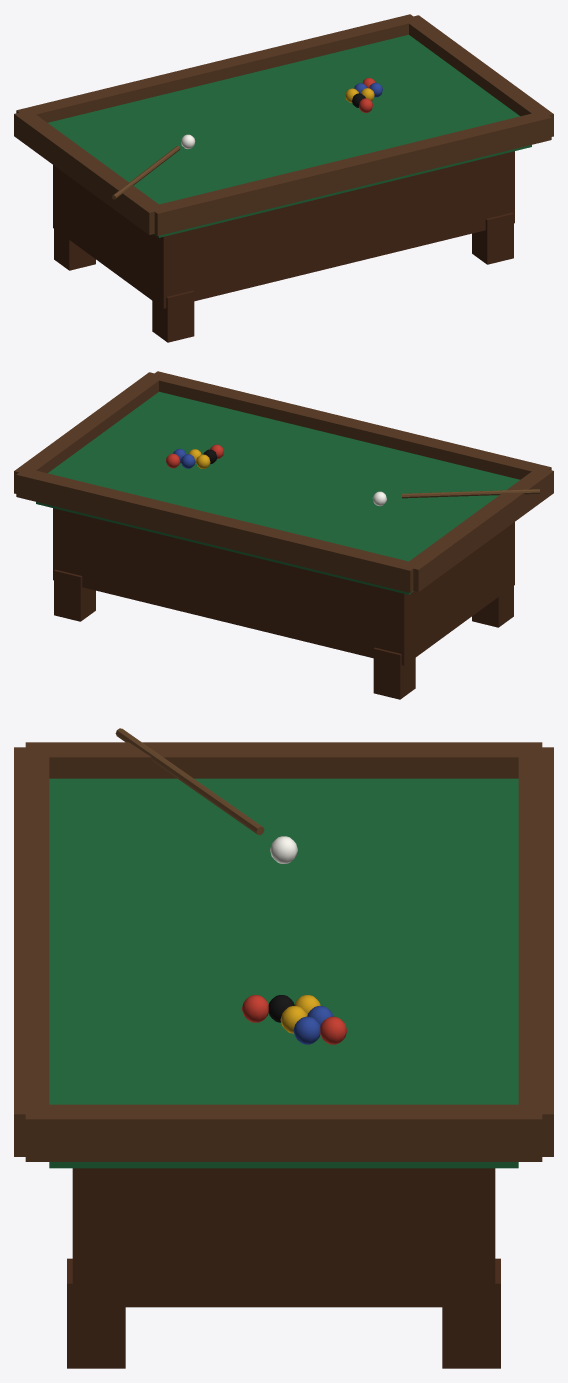
File: pool-table.glb
The picture shows the model from 3 angles, top to bottom: view 1: azimuth 30°, elevation 25°; view 2: azimuth 150°, elevation 25°; view 3: azimuth 270°, elevation 25°; orthographic projection. The views are drawn at different scales.
Visible parts, largest first — view 1: part-pool-felt, part-pool-body, part-pool-rail, part-wood; view 2: part-pool-felt, part-pool-body, part-pool-rail, part-wood; view 3: part-pool-felt, part-pool-rail, part-pool-body, part-wood, part-pool-ball-2, part-pool-ball-1.
Boxes of the visible parts, x1,y1,x2,y2 form: part-pool-felt: (48, 34, 531, 237); part-pool-body: (53, 151, 514, 342); part-pool-rail: (14, 14, 553, 235); part-wood: (112, 146, 180, 199); part-pool-felt: (36, 391, 519, 594); part-pool-body: (53, 508, 514, 699); part-pool-rail: (14, 371, 553, 592); part-wood: (402, 489, 539, 498); part-pool-felt: (49, 778, 518, 1168); part-pool-rail: (14, 742, 553, 1161); part-pool-body: (67, 1168, 500, 1368); part-wood: (115, 728, 264, 835); part-pool-ball-2: (242, 995, 347, 1044); part-pool-ball-1: (293, 1006, 333, 1044).
Bounding box in the file's own units: 78.21 × 26.4 × 46.
